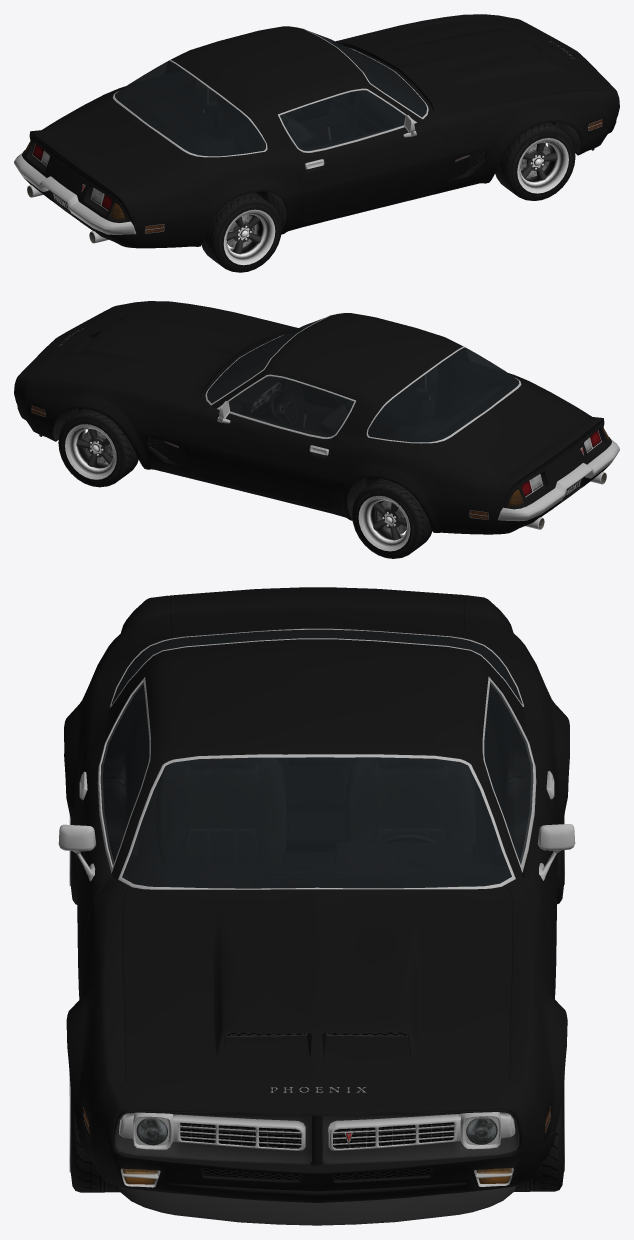
The model's file is sk-phoenix.glb.
3 renders of one model, top to bottom at view 1: azimuth 30°, elevation 25°; view 2: azimuth 150°, elevation 25°; view 3: azimuth 270°, elevation 25°, orthographic. The views are drawn at different scales.
Visible parts, largest first — view 1: Phoenix445_Body_Phoenix445_Bodymat_0, Phoenix445_Glass_Passenger_UCB_Lights_and_Glass_Transperent_, Phoenix445_Interior_UCB_Interiors_2_0, Phoenix445_WheelStock_FL_RB1c_Tire_1k_0, Phoenix445_Bumper_rear_UCB_BOTTOM_0, Phoenix445_Reverse_UCB_Lights_and_Glass_0; view 2: Phoenix445_Body_Phoenix445_Bodymat_0, Phoenix445_Glass_Passenger_UCB_Lights_and_Glass_Transperent_, Phoenix445_Interior_UCB_Interiors_2_0, Phoenix445_WheelStock_FL_RB1c_Tire_1k_0, Phoenix445_Bumper_rear_UCB_BOTTOM_0, Phoenix445_Reverse_UCB_Lights_and_Glass_0; view 3: Phoenix445_Body_Phoenix445_Bodymat_0, Phoenix445_Glass_Passenger_UCB_Lights_and_Glass_Transperent_, Phoenix445_Interior_UCB_Interiors_2_0, Phoenix445_Bumper_rear_UCB_BOTTOM_0, Phoenix445_WheelStock_FL_RB1c_Tire_1k_0, Phoenix445_Reverse_UCB_Lights_and_Glass_0.
Boxes of the visible parts, bbox=[...] form: Phoenix445_Body_Phoenix445_Bodymat_0: bbox=[22, 14, 619, 248]; Phoenix445_Glass_Passenger_UCB_Lights_and_Glass_Transperent_: bbox=[24, 31, 602, 233]; Phoenix445_Interior_UCB_Interiors_2_0: bbox=[115, 47, 426, 155]; Phoenix445_WheelStock_FL_RB1c_Tire_1k_0: bbox=[201, 122, 575, 272]; Phoenix445_Bumper_rear_UCB_BOTTOM_0: bbox=[14, 27, 602, 243]; Phoenix445_Reverse_UCB_Lights_and_Glass_0: bbox=[25, 120, 602, 232]; Phoenix445_Body_Phoenix445_Bodymat_0: bbox=[14, 301, 611, 534]; Phoenix445_Glass_Passenger_UCB_Lights_and_Glass_Transperent_: bbox=[31, 318, 609, 519]; Phoenix445_Interior_UCB_Interiors_2_0: bbox=[207, 334, 518, 441]; Phoenix445_WheelStock_FL_RB1c_Tire_1k_0: bbox=[58, 408, 432, 558]; Phoenix445_Bumper_rear_UCB_BOTTOM_0: bbox=[31, 313, 619, 529]; Phoenix445_Reverse_UCB_Lights_and_Glass_0: bbox=[32, 406, 608, 519]; Phoenix445_Body_Phoenix445_Bodymat_0: bbox=[64, 587, 569, 1202]; Phoenix445_Glass_Passenger_UCB_Lights_and_Glass_Transperent_: bbox=[83, 629, 550, 1184]; Phoenix445_Interior_UCB_Interiors_2_0: bbox=[103, 630, 530, 888]; Phoenix445_Bumper_rear_UCB_BOTTOM_0: bbox=[58, 628, 575, 1225]; Phoenix445_WheelStock_FL_RB1c_Tire_1k_0: bbox=[69, 813, 564, 1192]; Phoenix445_Reverse_UCB_Lights_and_Glass_0: bbox=[83, 1110, 550, 1183].
Size of the model in its own units: 4.89 by 1.33 by 2.09.
8 materials, 7 textured.
